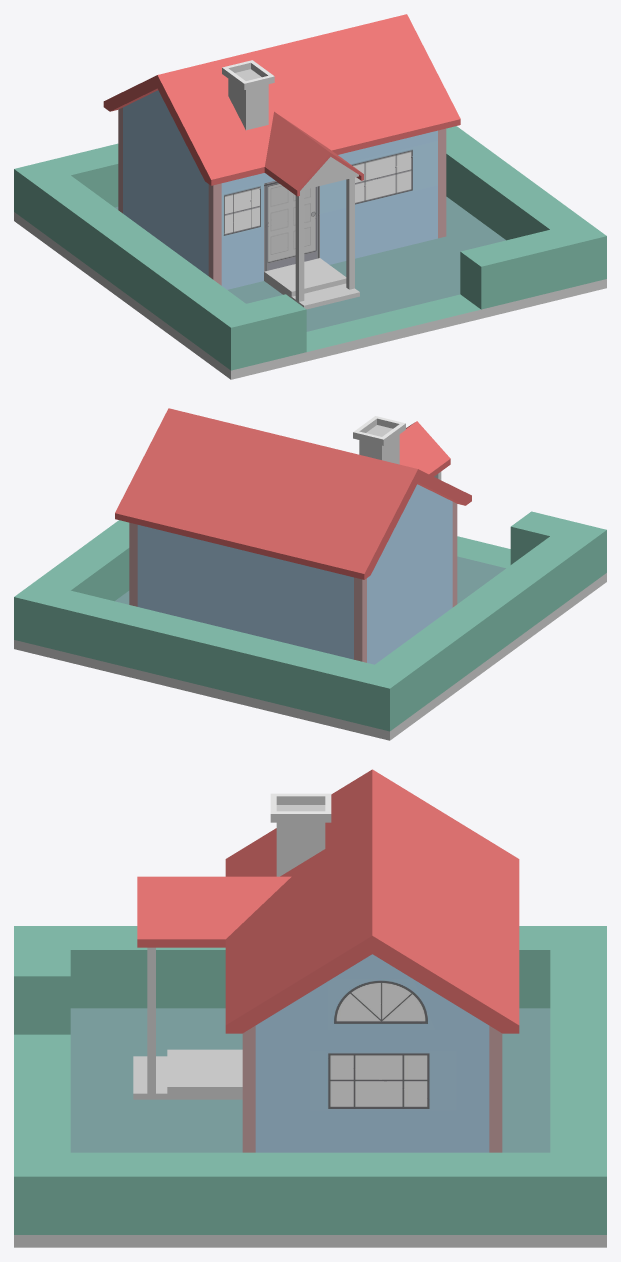
File: buildings_12.dae
The picture shows the model from 3 angles, top to bottom: view 1: azimuth 30°, elevation 25°; view 2: azimuth 150°, elevation 25°; view 3: azimuth 270°, elevation 25°; orthographic projection. The views are drawn at different scales.
Parts seen in each view (by area): view 1: group_0 (×17); view 2: group_0 (×10); view 3: group_0 (×11).
Part boxes in pixels (box(x1,y1,x2,y2)): group_0 (×17): box(14, 14, 606, 379); group_0 (×10): box(14, 408, 606, 740); group_0 (×11): box(14, 769, 606, 1247).
Size of the model in its own units: 134 by 134 by 68.45.
Materials: 12 (11 with a texture image).
